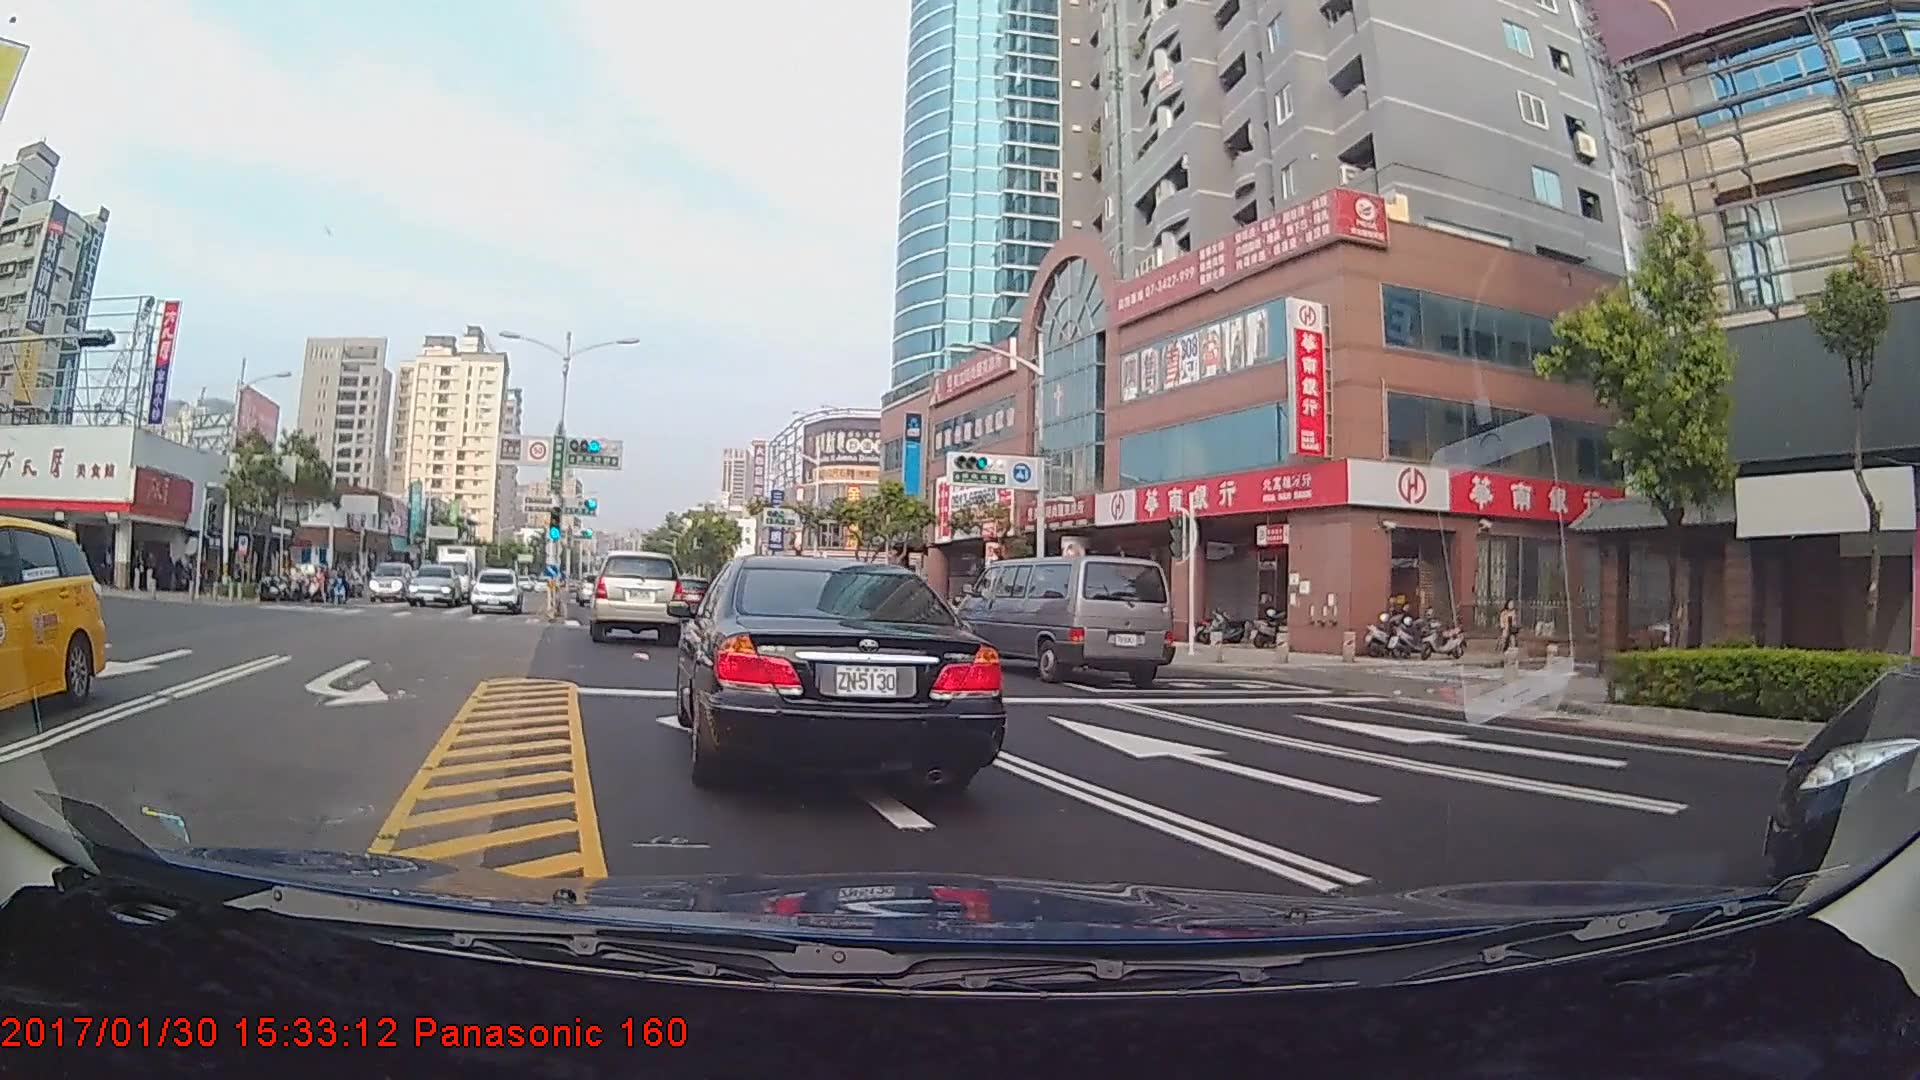pedestrian: (1501, 598, 1522, 662)
vehicle: (678, 545, 998, 789), (1782, 671, 1917, 878), (957, 553, 1169, 684), (0, 517, 105, 726), (589, 551, 679, 641), (432, 540, 486, 600), (406, 563, 464, 609), (471, 566, 523, 615), (367, 560, 416, 604)
